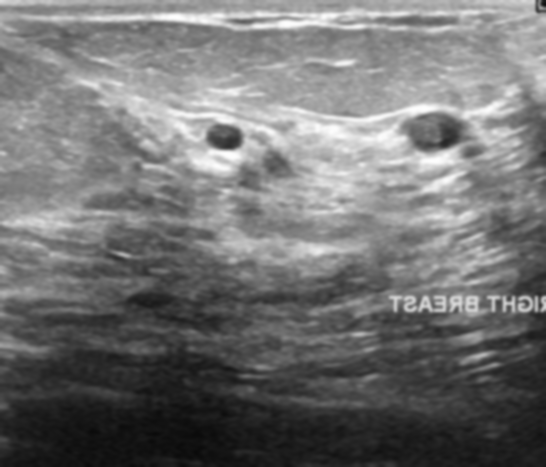Benign: (401, 101, 468, 164), (203, 119, 248, 156)
